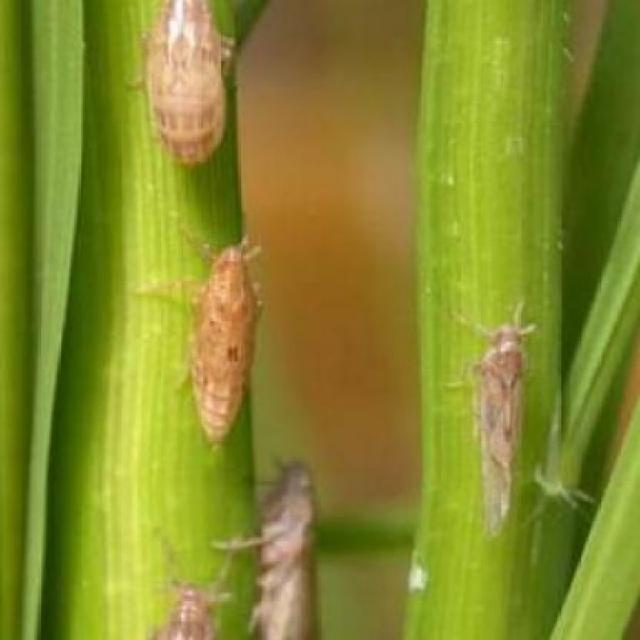brown-planthopper: (146, 2, 232, 163), (191, 248, 260, 443), (258, 466, 329, 640), (480, 329, 529, 529), (158, 577, 214, 640)
